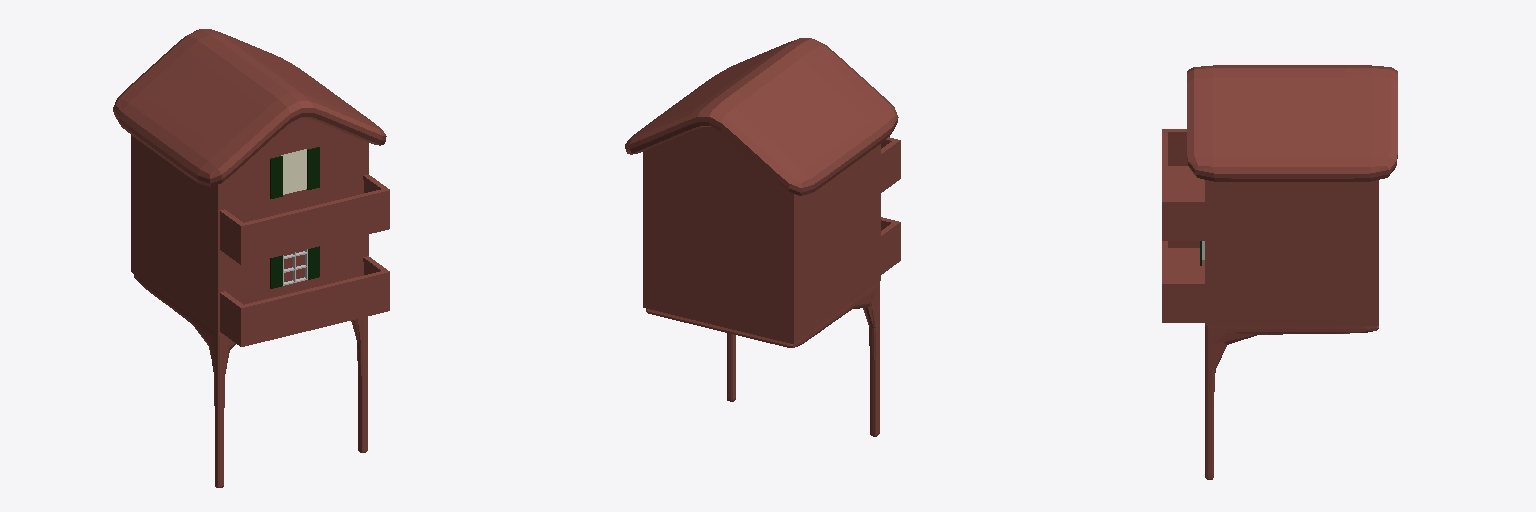
The model's file is alpine-house.obj.
3 renders of one model, left to right at view 1: azimuth 30°, elevation 25°; view 2: azimuth 150°, elevation 25°; view 3: azimuth 270°, elevation 25°, orthographic.
Visible parts, largest first — view 1: roof1.001_Cube.003; view 2: roof1.001_Cube.003; view 3: roof1.001_Cube.003.
Boxes of the visible parts, x1,y1,x2,y2 form: roof1.001_Cube.003: [113, 29, 389, 487]; roof1.001_Cube.003: [625, 38, 900, 436]; roof1.001_Cube.003: [1162, 65, 1397, 479].
Size of the model in its own units: 1.22 by 2.38 by 1.36.